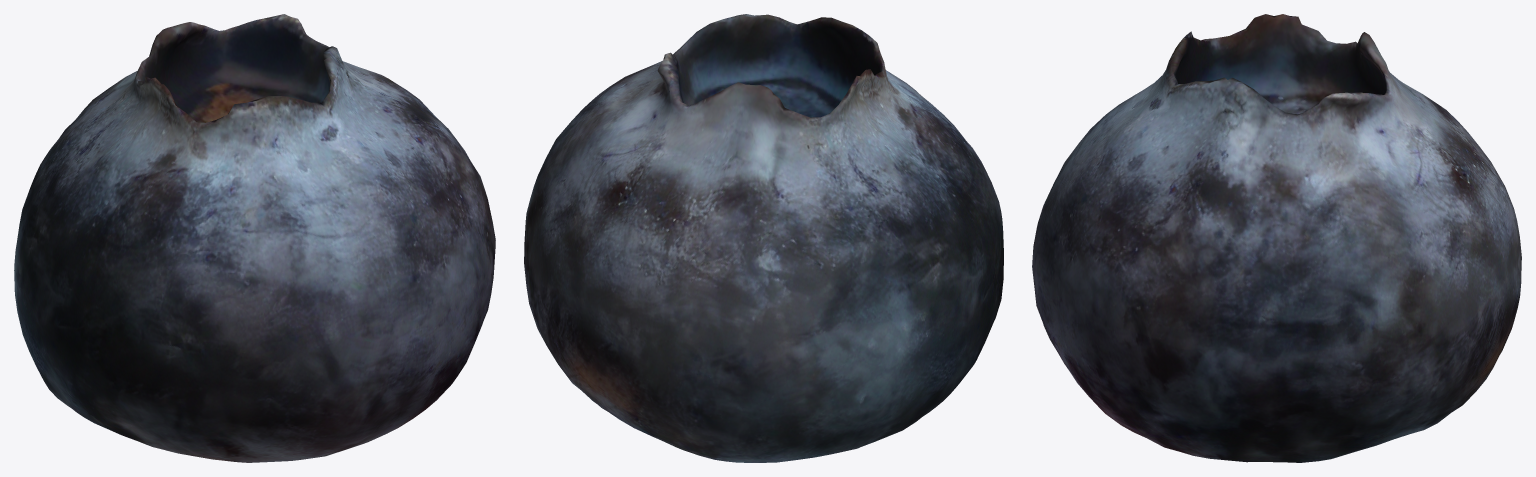
The model's file is blueberry.fbx.
The picture shows the model from 3 angles, left to right: view 1: azimuth 30°, elevation 25°; view 2: azimuth 150°, elevation 25°; view 3: azimuth 270°, elevation 25°; orthographic projection.
Visible parts, largest first — view 1: blueberry; view 2: blueberry; view 3: blueberry.
Part boxes in pixels (x1=…): blueberry: x1=14, y1=14, x2=495, y2=462; blueberry: x1=524, y1=14, x2=1003, y2=462; blueberry: x1=1032, y1=14, x2=1521, y2=462.
Size of the model in its own units: 176 by 147 by 180.
1 material, 1 textured.
